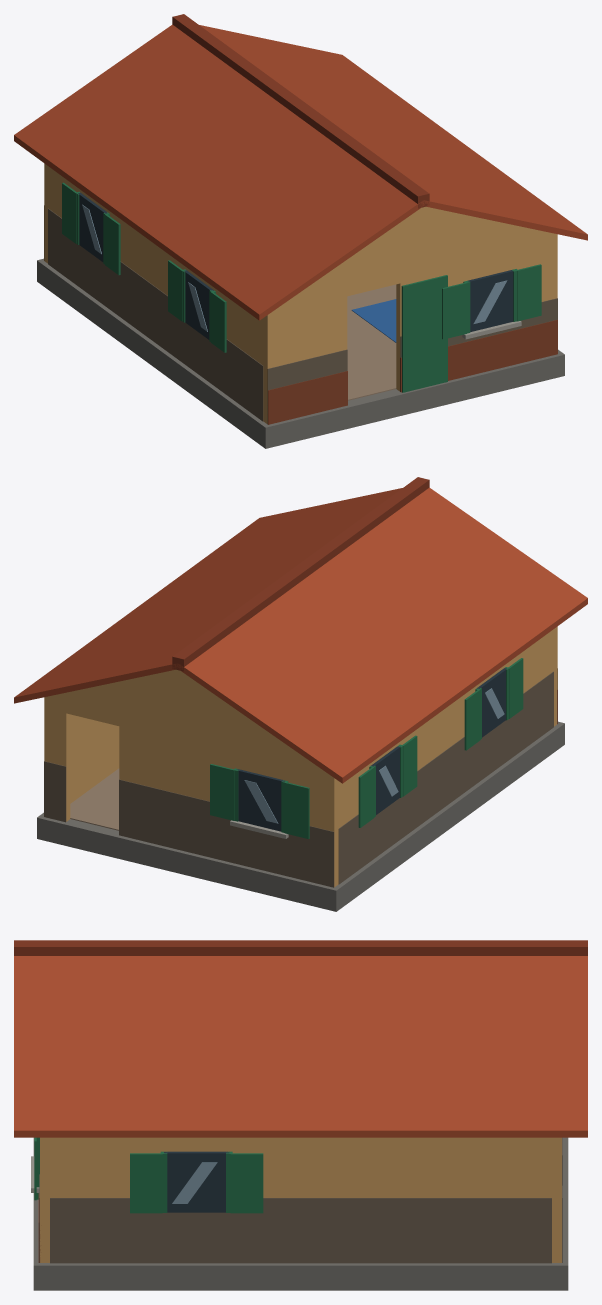
Rendered from casa_colono_a.glb.
3 renders of one model, top to bottom at view 1: azimuth 30°, elevation 25°; view 2: azimuth 150°, elevation 25°; view 3: azimuth 270°, elevation 25°, orthographic. The views are drawn at different scales.
Visible parts, largest first — view 1: casa_colono_a; view 2: casa_colono_a; view 3: casa_colono_a.
Boxes of the visible parts, bbox=[...] form: casa_colono_a: bbox=[14, 14, 587, 448]; casa_colono_a: bbox=[14, 477, 587, 911]; casa_colono_a: bbox=[14, 940, 587, 1290].
Bounding box in the file's own units: 6.8 × 4.42 × 8.8.
